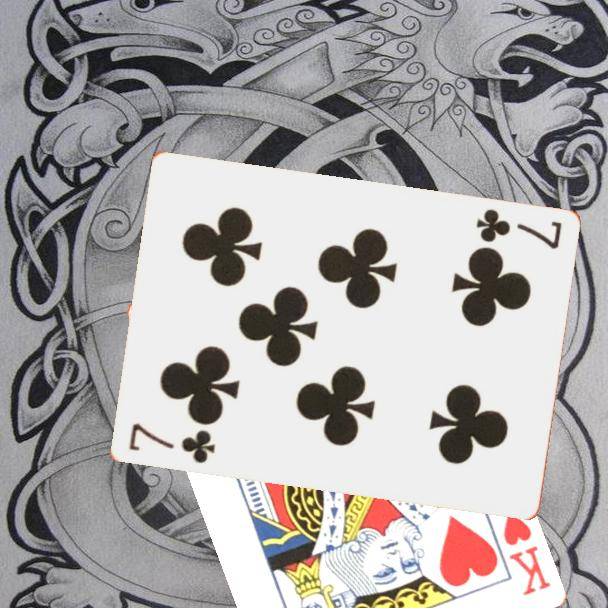c07: (124, 419, 218, 467), (472, 205, 565, 253)
h13: (499, 506, 553, 599)
